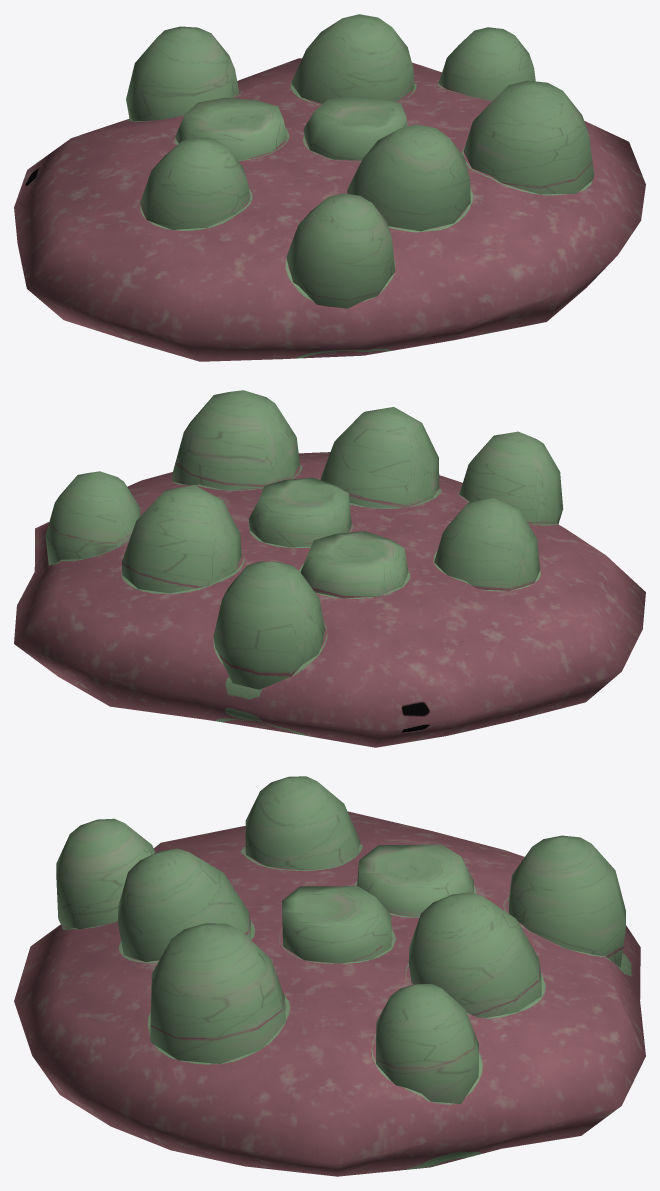
The model's file is SM_Flora_EggCluster.fbx.
3 views of the same model, one above another, from view 1: azimuth 30°, elevation 25°; view 2: azimuth 150°, elevation 25°; view 3: azimuth 270°, elevation 25° (orthographic). The views are drawn at different scales.
Visible parts, largest first — view 1: SM_Flora_EggCluster; view 2: SM_Flora_EggCluster; view 3: SM_Flora_EggCluster.
Boxes of the visible parts, x1,y1,x2,y2 form: SM_Flora_EggCluster: (14, 14, 645, 361); SM_Flora_EggCluster: (14, 390, 645, 747); SM_Flora_EggCluster: (14, 776, 645, 1176).
Size of the model in its own units: 74.41 by 60.33 by 24.33.
